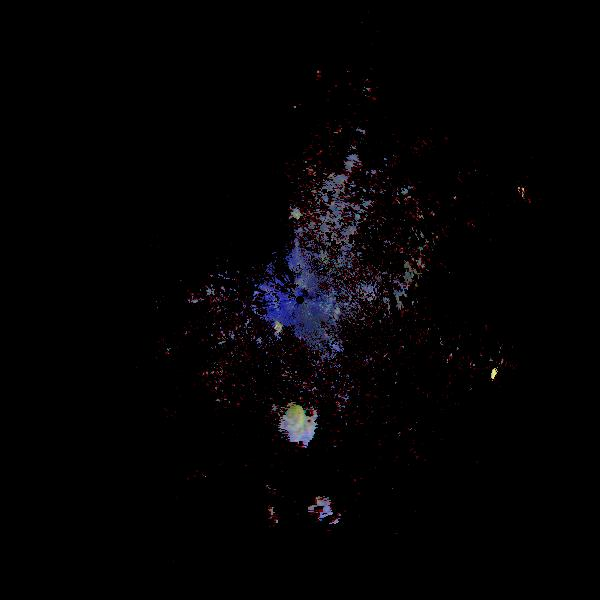roost: (271, 400, 319, 448), (253, 505, 280, 532), (312, 495, 336, 519)
